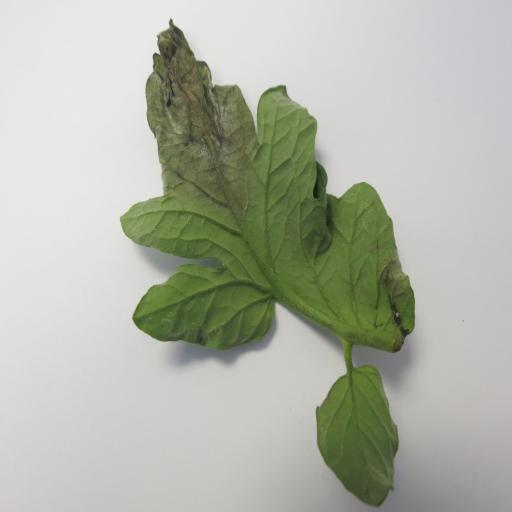disease_tomato: (114, 12, 434, 353)
